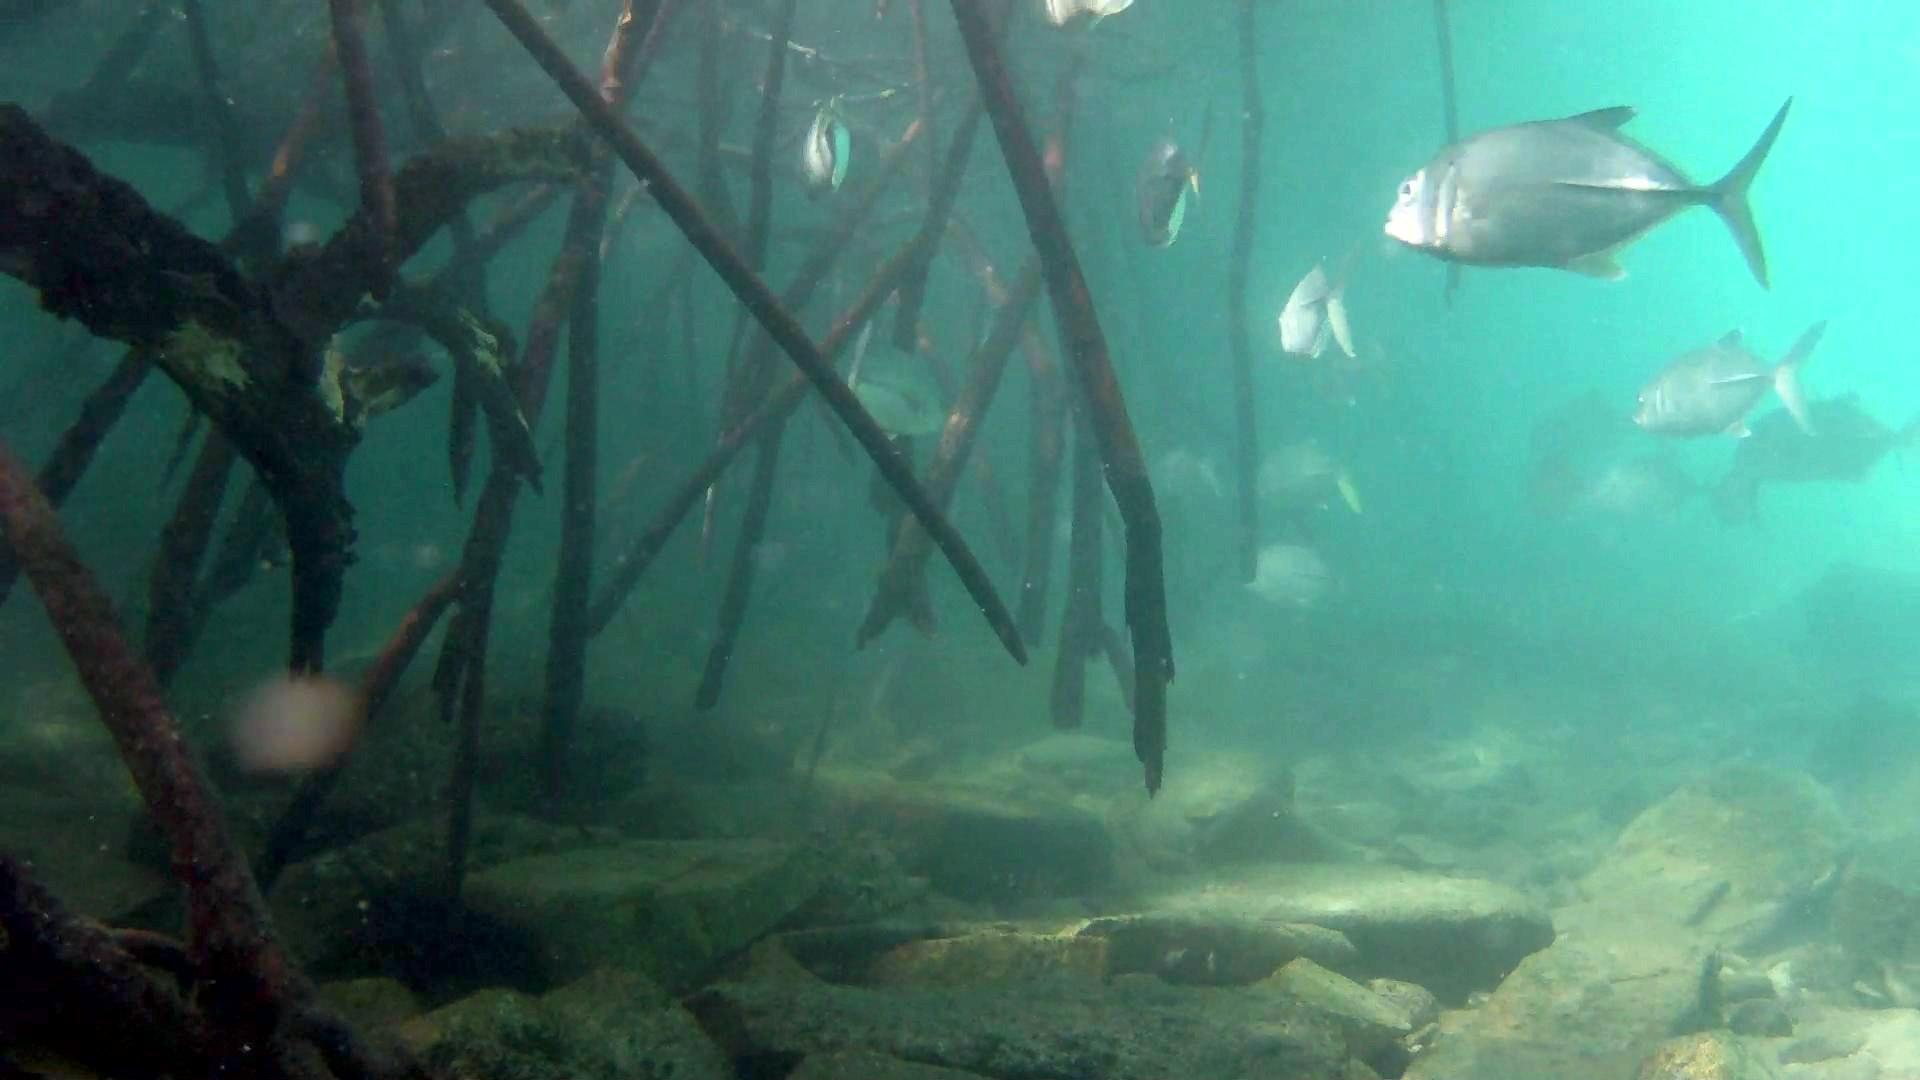caranx: (1366, 88, 1812, 302), (1615, 309, 1840, 451)
